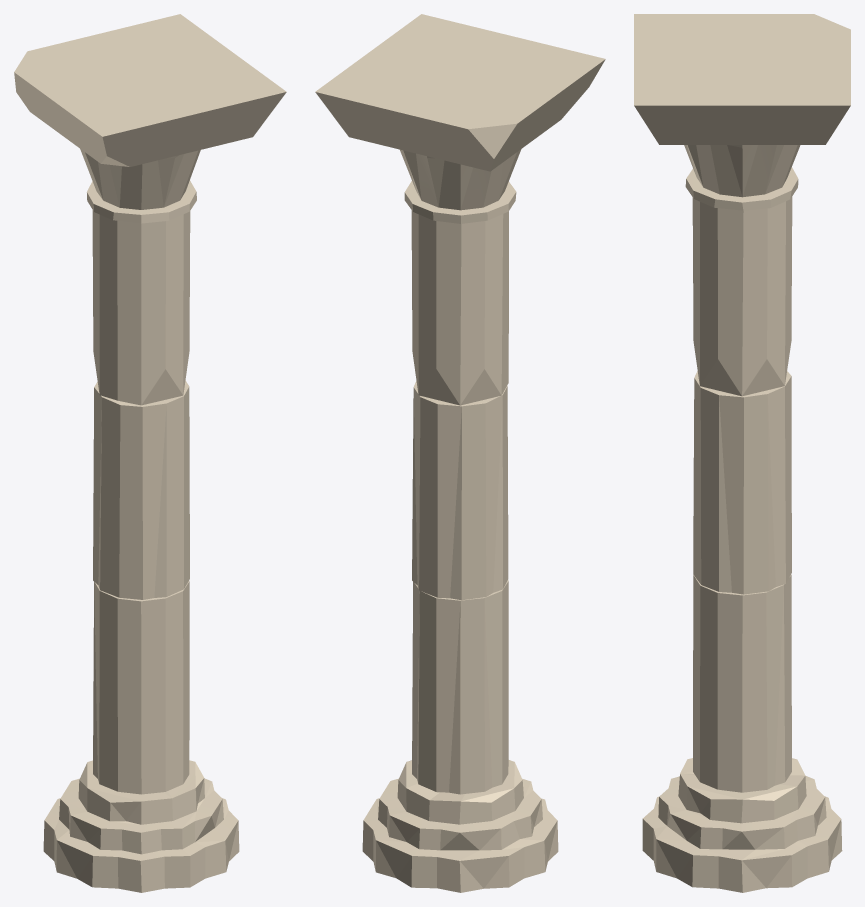
The model's file is Column.fbx.
3 views of the same model, side by side, from view 1: azimuth 30°, elevation 25°; view 2: azimuth 150°, elevation 25°; view 3: azimuth 270°, elevation 25° (orthographic).
Visible parts, largest first — view 1: Column.006; view 2: Column.006; view 3: Column.006.
Part boxes in pixels (x1,y1,x2,y2): Column.006: (14,14,286,892); Column.006: (315,14,605,892); Column.006: (634,14,850,892).
Bounding box in the file's own units: 129 × 518 × 129.
